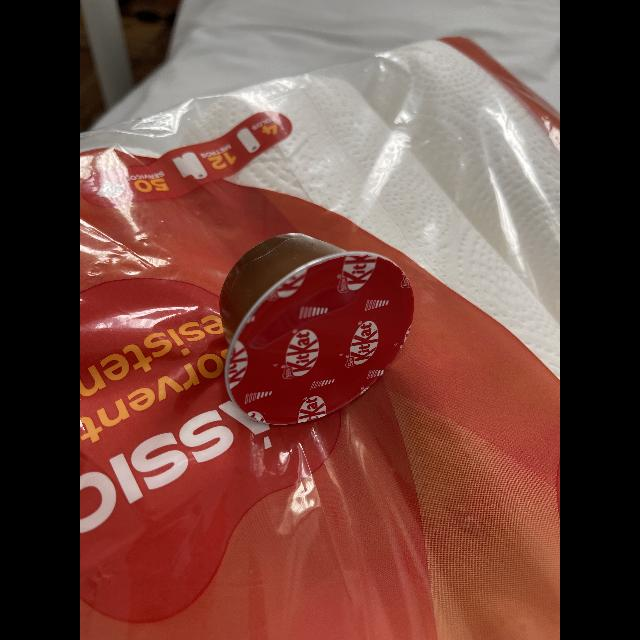intact_capsule: (212, 225, 436, 443)
